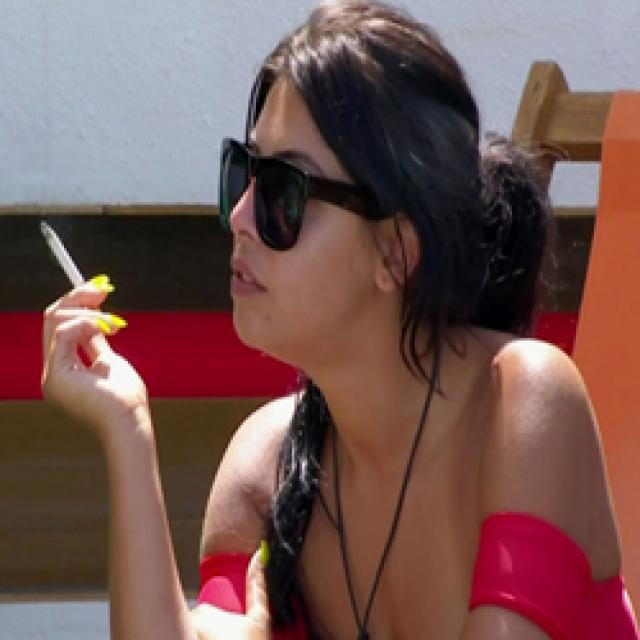Smooking: (33, 211, 101, 297)
